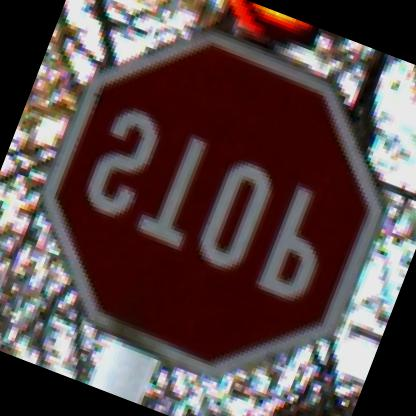stop: (13, 0, 415, 409)
